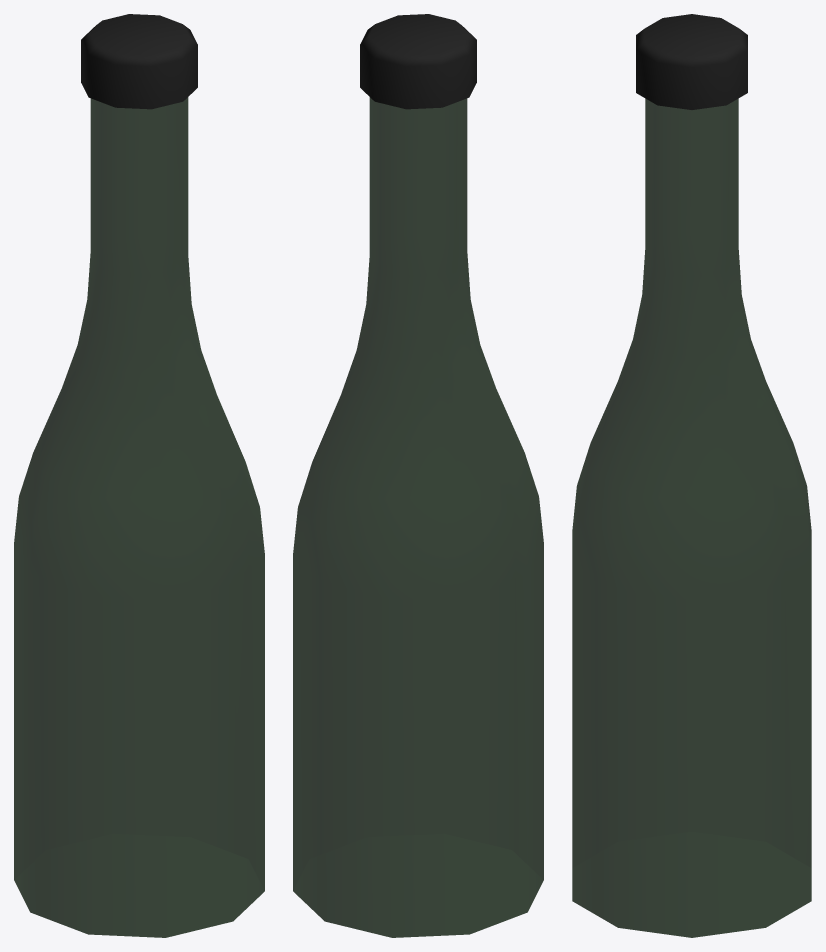
Rendered from SM_WineBottle_A.fbx.
3 renders of one model, left to right at view 1: azimuth 30°, elevation 25°; view 2: azimuth 150°, elevation 25°; view 3: azimuth 270°, elevation 25°, orthographic.
Parts seen in each view (by area): view 1: WineBottle_A; view 2: WineBottle_A; view 3: WineBottle_A.
Boxes of the visible parts, x1,y1,x2,y2 form: WineBottle_A: (14, 14, 264, 937); WineBottle_A: (293, 14, 543, 937); WineBottle_A: (572, 14, 811, 937).
Bounding box in the file's own units: 164 × 610 × 156.
